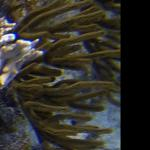dead: (1, 1, 118, 147)
